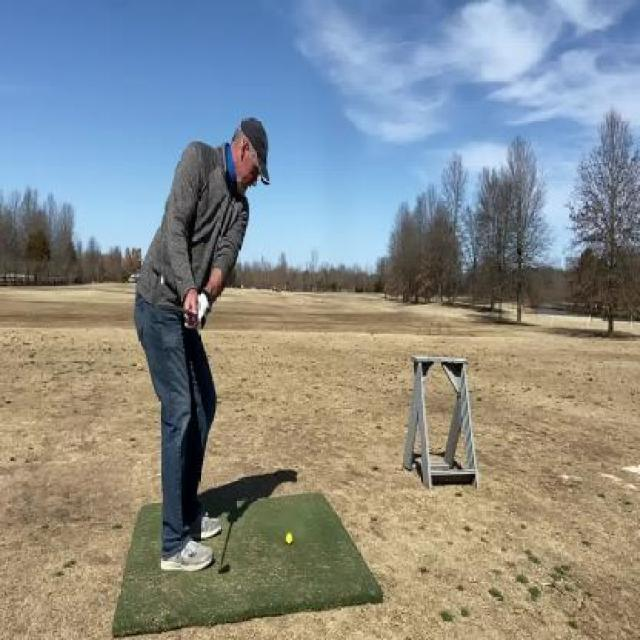club head: (151, 270, 166, 313)
